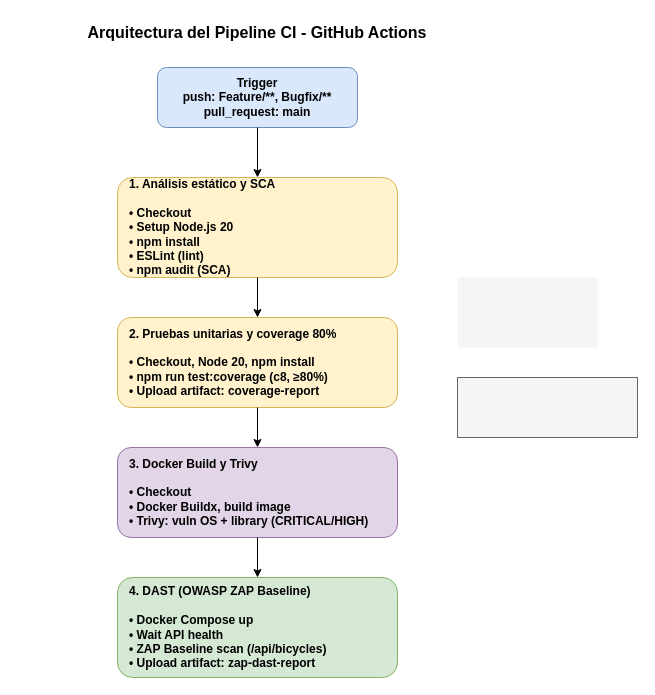
This 655x695 diagram has some shape labels left out. Each missing label, with the box of its shape:
Artefactos • coverage-report (7 días) • zap-dast-report (30 días): (456, 376, 638, 438)
needs: Job 2 → Job 1 Job 3 → Job 1, Job 2 Job 4 → Job 3: (457, 277, 597, 347)
